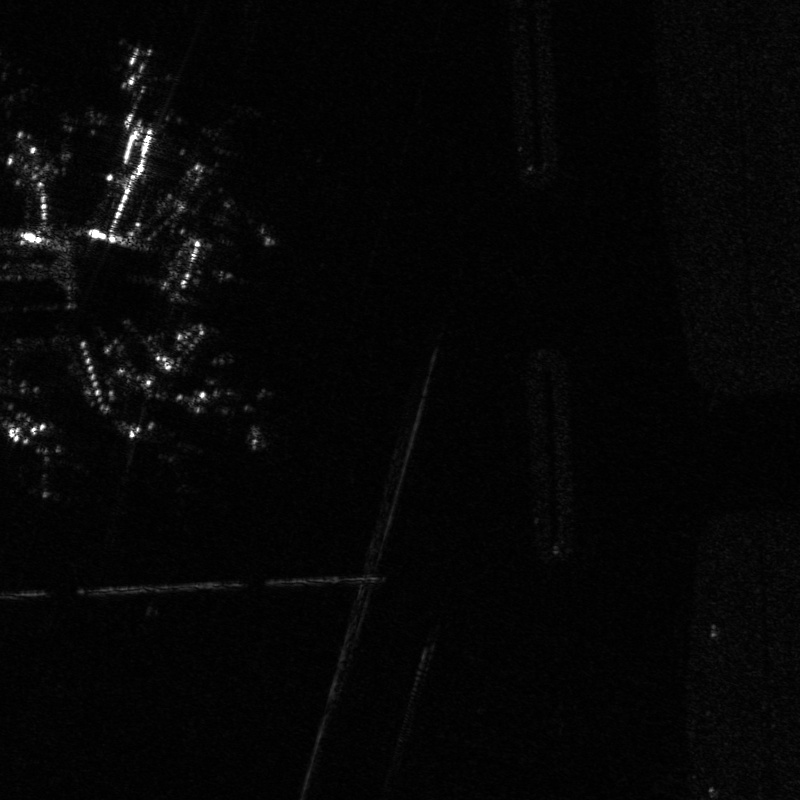A220: (186, 186, 262, 249), (186, 108, 249, 176)
A320/321: (165, 350, 258, 429), (96, 36, 183, 96)
Boeing737: (113, 412, 198, 474)
